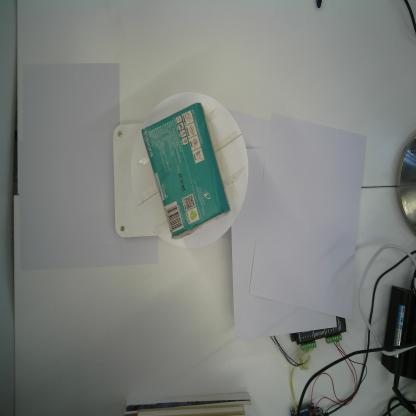Tissue: (140, 100, 232, 242)
